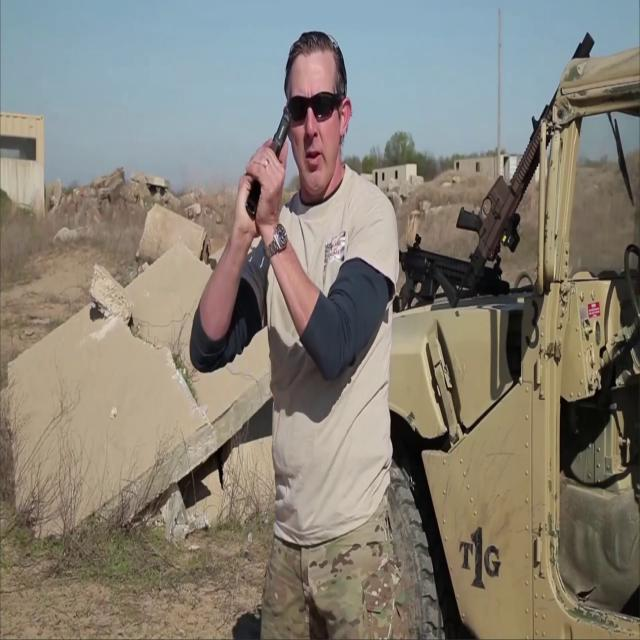gun: (246, 110, 292, 218)
